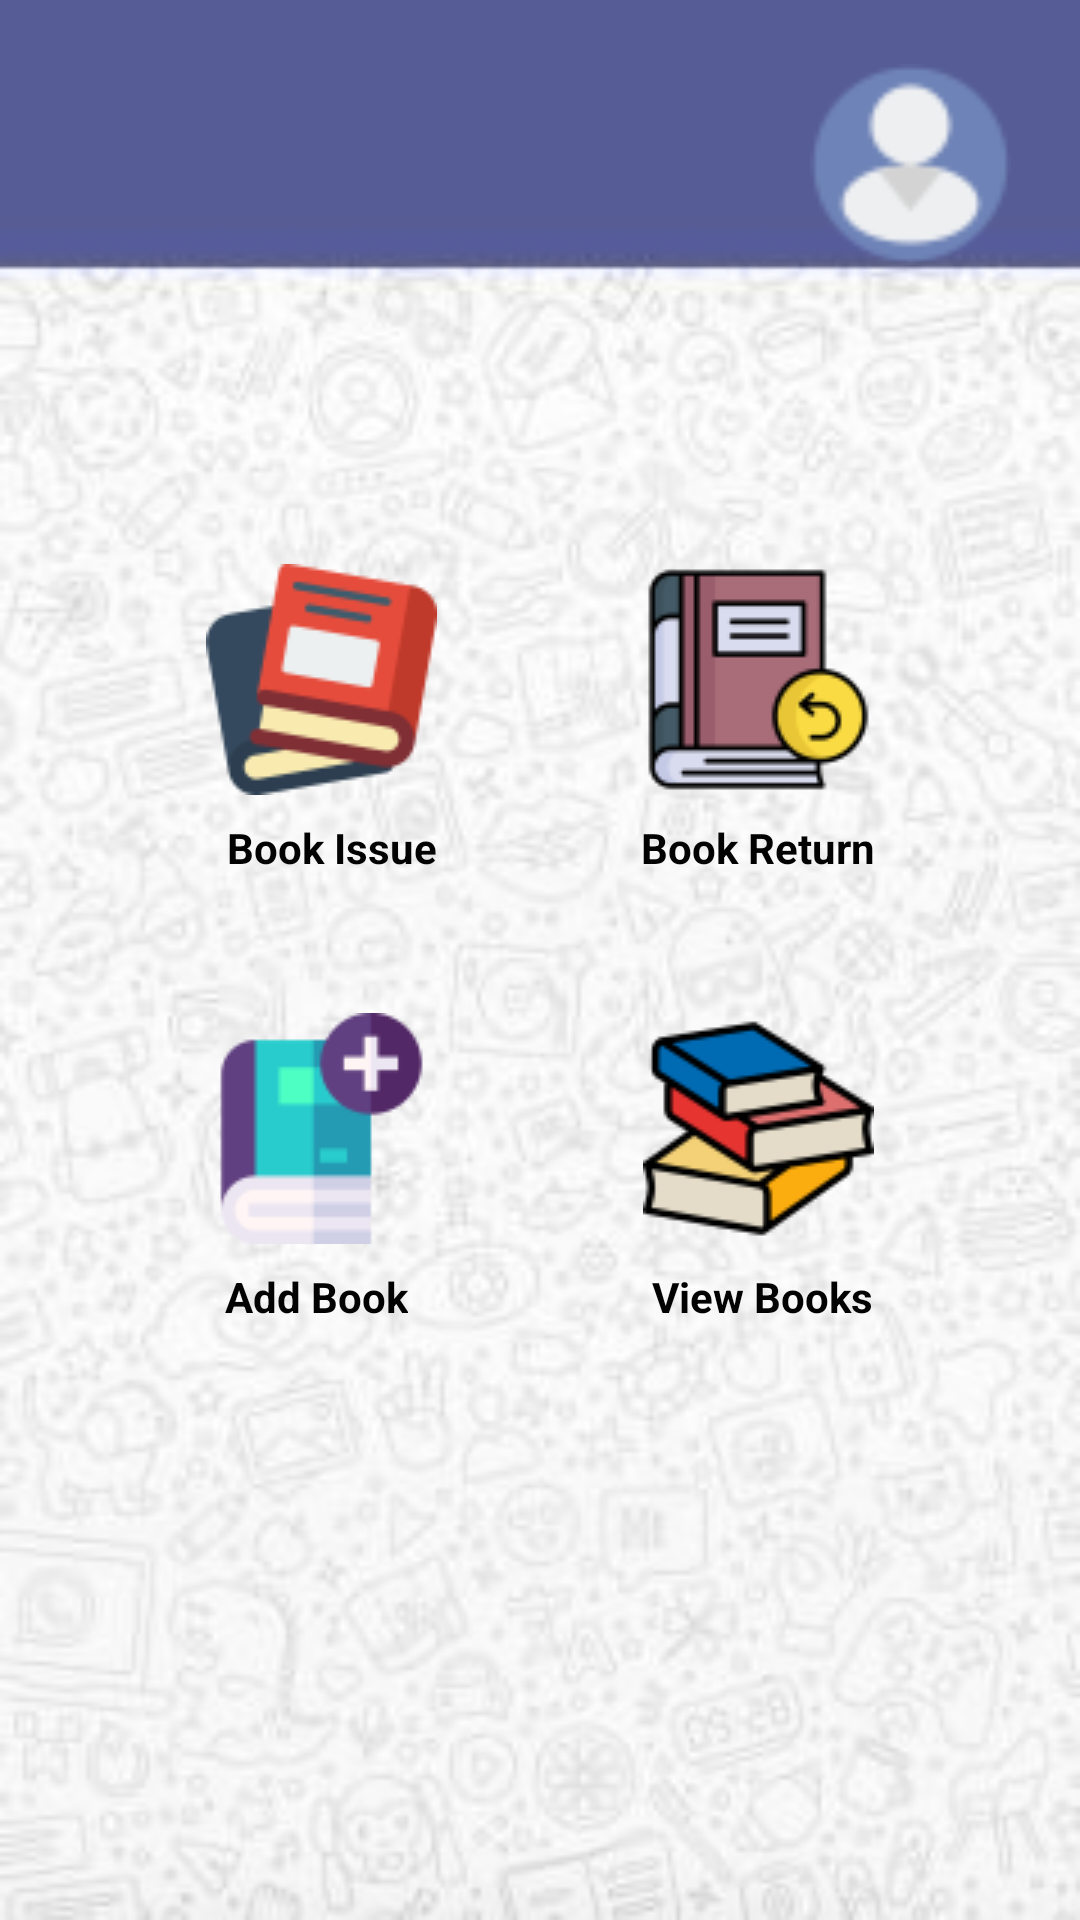

Icon click points for this 1080x1920 phone screenshot, format (x=x, y=y):
profile: (x=910, y=164)
